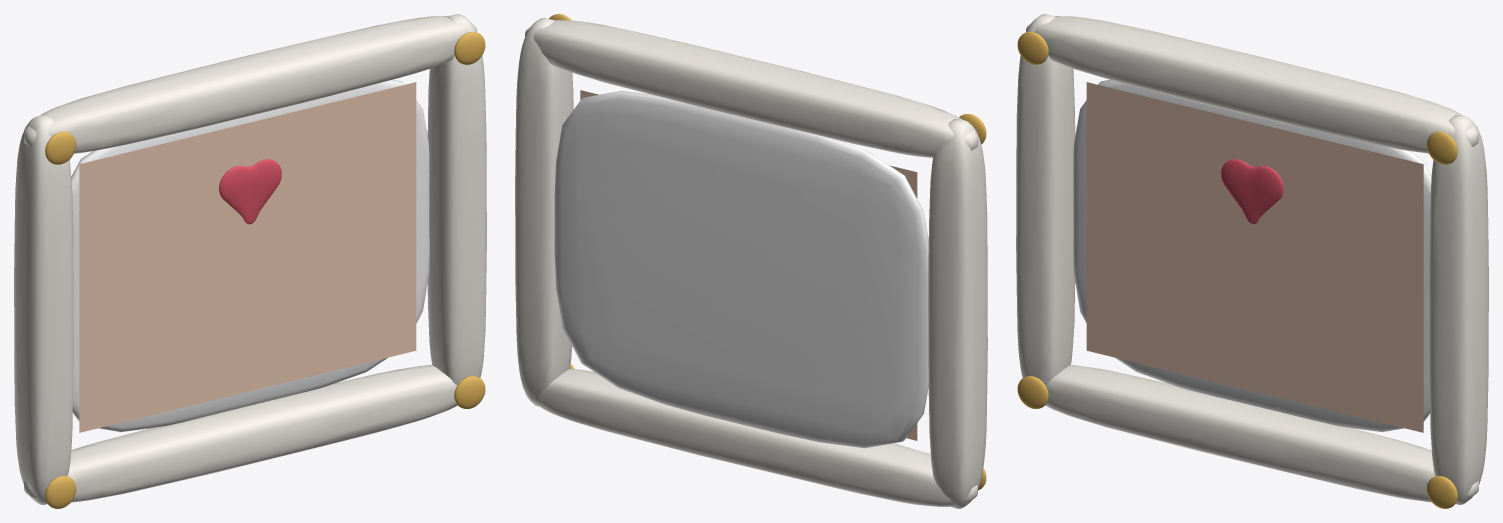
The model's file is deco_cuadro_foto.glb.
3 views of the same model, side by side, from view 1: azimuth 30°, elevation 25°; view 2: azimuth 150°, elevation 25°; view 3: azimuth 330°, elevation 25° (orthographic).
Visible parts, largest first — view 1: foto, marco horizontal.005, marco horizontal.004, marco vertical.004, marco vertical.005, lienzo.002, corazón foto, esquina dorada.001, esquina dorada.003, esquina dorada, esquina dorada.002; view 2: lienzo.002, marco horizontal.005, marco vertical.004, marco horizontal.004, marco vertical.005; view 3: foto, marco horizontal.005, marco horizontal.004, marco vertical.005, marco vertical.004, lienzo.002, corazón foto, esquina dorada.003, esquina dorada.001, esquina dorada.002, esquina dorada.
Part boxes in pixels (x1,y1,x2,y2): foto: [79, 82, 416, 432]; marco horizontal.005: [24, 16, 476, 153]; marco horizontal.004: [24, 364, 457, 502]; marco vertical.004: [14, 114, 73, 504]; marco vertical.005: [427, 14, 486, 385]; lienzo.002: [71, 79, 429, 432]; corazón foto: [219, 159, 281, 224]; esquina dorada.001: [45, 131, 76, 164]; esquina dorada.003: [454, 31, 485, 64]; esquina dorada: [45, 476, 76, 508]; esquina dorada.002: [454, 376, 485, 408]; lienzo.002: [554, 90, 928, 448]; marco horizontal.005: [525, 20, 977, 157]; marco vertical.004: [928, 118, 987, 508]; marco horizontal.004: [533, 368, 977, 506]; marco vertical.005: [515, 18, 573, 406]; foto: [1086, 82, 1423, 432]; marco horizontal.005: [1026, 16, 1478, 153]; marco horizontal.004: [1045, 365, 1478, 502]; marco vertical.005: [1429, 114, 1488, 504]; marco vertical.004: [1016, 14, 1075, 385]; lienzo.002: [1073, 79, 1431, 432]; corazón foto: [1221, 159, 1283, 224]; esquina dorada.003: [1426, 131, 1457, 164]; esquina dorada.001: [1017, 31, 1048, 64]; esquina dorada.002: [1426, 476, 1457, 508]; esquina dorada: [1017, 376, 1048, 408].
Size of the model in its own units: 0.5698 by 0.4696 by 0.0676.
